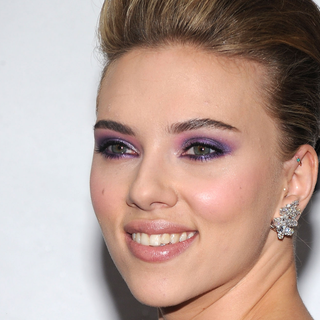eye: (178, 136, 230, 165), (96, 135, 142, 163)
